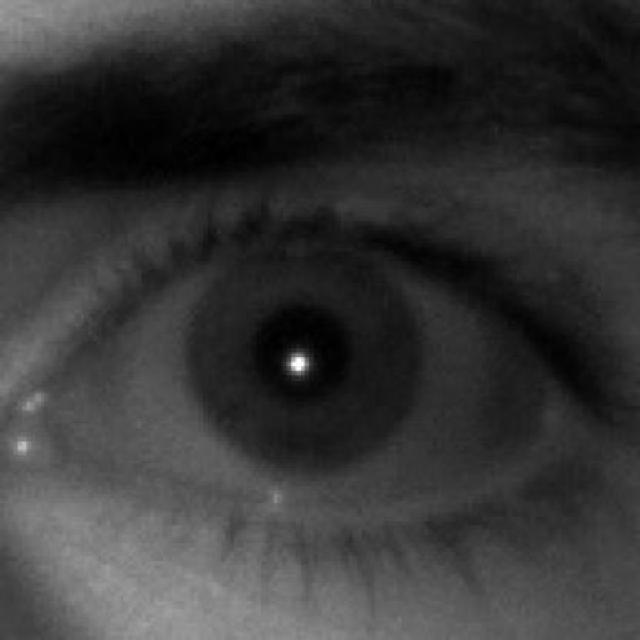awake: (0, 180, 635, 560)
